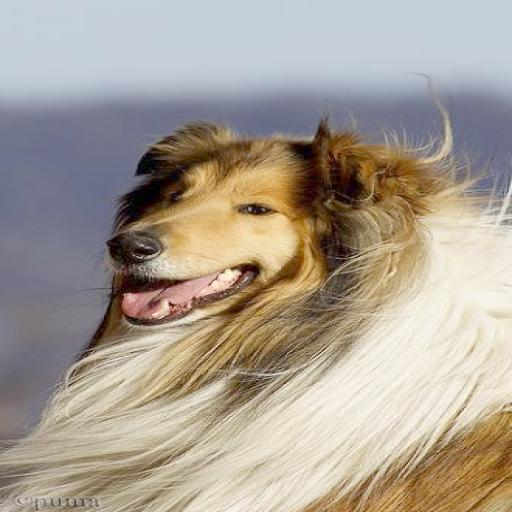dog_face: (102, 126, 408, 333)
